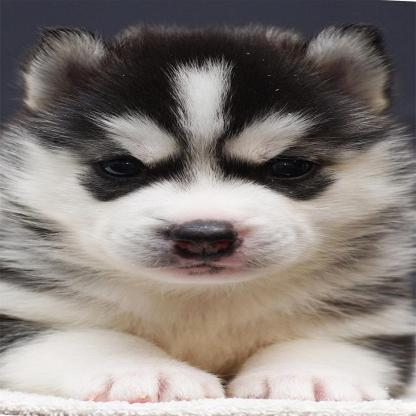husky: (0, 15, 411, 401)
